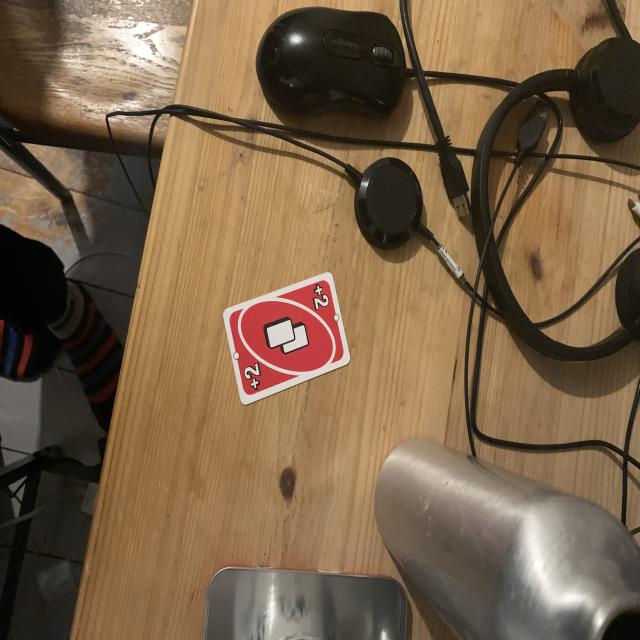lred-20: (310, 283, 330, 312)
